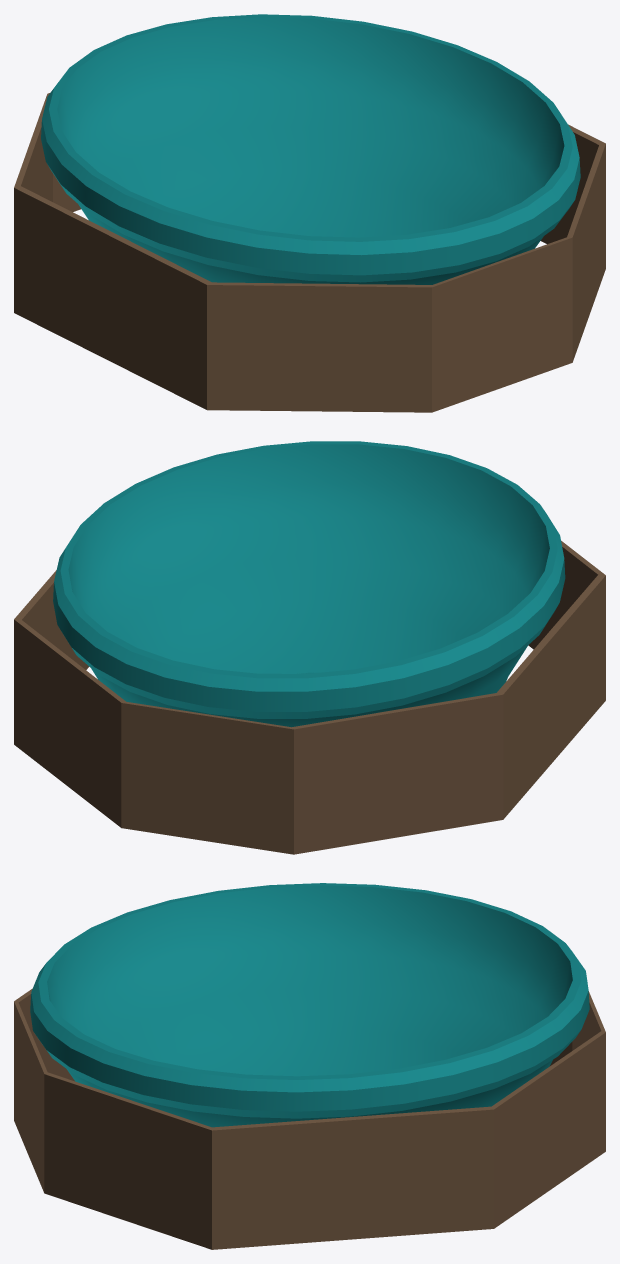
Rendered from pumpkin_small_patch.FBX.
3 views of the same model, one above another, from view 1: azimuth 30°, elevation 25°; view 2: azimuth 150°, elevation 25°; view 3: azimuth 270°, elevation 25° (orthographic). The views are drawn at different scales.
Parts seen in each view (by area): view 1: pumpkin_small_patch; view 2: pumpkin_small_patch; view 3: pumpkin_small_patch.
Boxes of the visible parts, x1,y1,x2,y2 form: pumpkin_small_patch: (14,14,605,412); pumpkin_small_patch: (14,441,605,854); pumpkin_small_patch: (14,883,605,1249).
Size of the model in its own units: 104 by 36.02 by 114.
